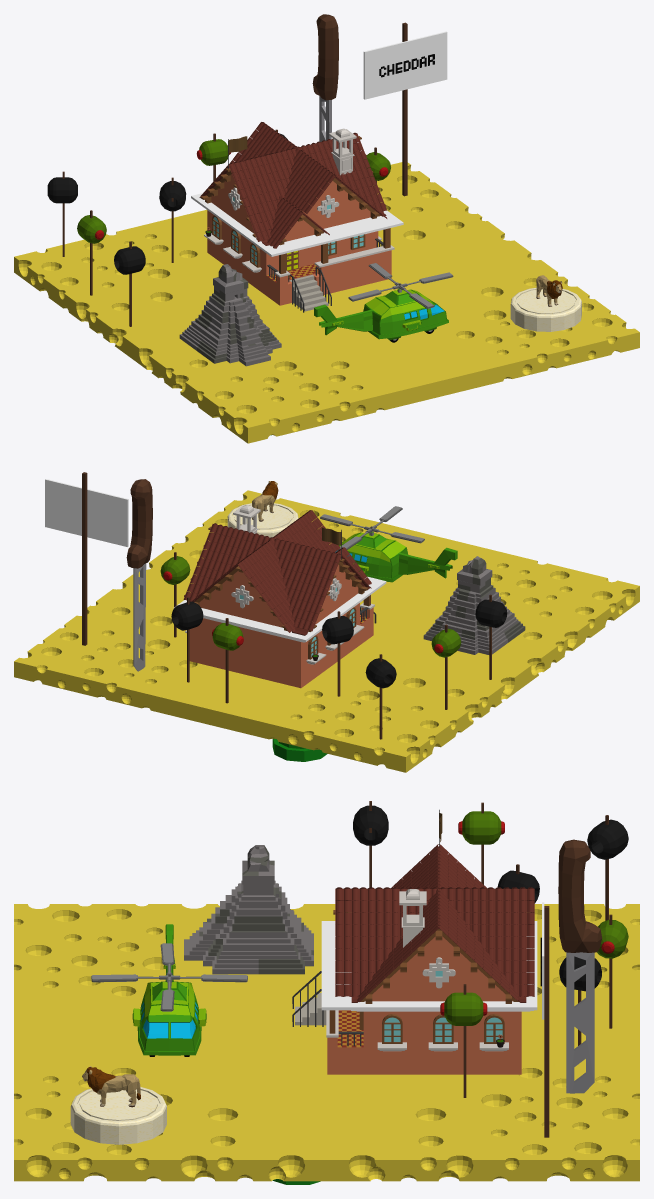
3 renders of one model, top to bottom at view 1: azimuth 30°, elevation 25°; view 2: azimuth 150°, elevation 25°; view 3: azimuth 270°, elevation 25°, orthographic. The views are drawn at different scales.
Parts seen in each view (by area): view 1: Cube.022, Cube.1141, OBJRANDOM_GRAN_JAGUAR, Cube.023, VEHICLES_HELICOPTER, Cylinder.016, Cube.024, Sphere.017, Sphere.016, Sphere.020, Sphere.018, Sphere.022; view 2: Cube.022, Cube.1141, Cube.023, OBJRANDOM_GRAN_JAGUAR, VEHICLES_HELICOPTER, Cube.024, Cylinder.016, Sphere.020, Sphere.016, Sphere.022, Sphere.017, Sphere.021 (+4 smaller); view 3: Cube.022, Cube.1141, OBJRANDOM_GRAN_JAGUAR, Cube.024, VEHICLES_HELICOPTER, Cylinder.016, Cube.023, Sphere.019, Sphere.016, Sphere.018, Sphere.017, ANIMAL_LEON (+3 smaller).
Part boxes in pixels (bbox=[...]): Cube.022: bbox=[14, 162, 639, 443]; Cube.1141: bbox=[191, 122, 403, 312]; OBJRANDOM_GRAN_JAGUAR: bbox=[179, 264, 281, 366]; Cube.023: bbox=[363, 22, 447, 196]; VEHICLES_HELICOPTER: bbox=[314, 263, 453, 342]; Cylinder.016: bbox=[510, 287, 581, 331]; Cube.024: bbox=[312, 14, 338, 141]; Sphere.017: bbox=[114, 241, 145, 326]; Sphere.016: bbox=[47, 171, 77, 256]; Sphere.020: bbox=[159, 177, 186, 262]; Sphere.018: bbox=[77, 210, 106, 295]; Sphere.022: bbox=[196, 133, 230, 180]; Cube.022: bbox=[14, 490, 639, 772]; Cube.1141: bbox=[173, 505, 386, 688]; Cube.023: bbox=[45, 472, 128, 645]; OBJRANDOM_GRAN_JAGUAR: bbox=[423, 556, 525, 654]; VEHICLES_HELICOPTER: bbox=[320, 506, 457, 582]; Cube.024: bbox=[126, 479, 152, 671]; Cylinder.016: bbox=[227, 503, 298, 537]; Sphere.020: bbox=[322, 611, 353, 696]; Sphere.016: bbox=[365, 654, 396, 739]; Sphere.022: bbox=[212, 618, 243, 703]; Sphere.017: bbox=[475, 594, 507, 679]; Sphere.021: bbox=[171, 597, 203, 682]; Cube.022: bbox=[14, 904, 639, 1181]; Cube.1141: bbox=[292, 809, 537, 1074]; OBJRANDOM_GRAN_JAGUAR: bbox=[184, 845, 313, 974]; Cube.024: bbox=[558, 839, 602, 1093]; VEHICLES_HELICOPTER: bbox=[91, 924, 247, 1056]; Cylinder.016: bbox=[70, 1087, 166, 1144]; Cube.023: bbox=[540, 902, 549, 1137]; Sphere.019: bbox=[440, 984, 487, 1097]; Sphere.016: bbox=[587, 815, 628, 920]; Sphere.018: bbox=[458, 802, 504, 886]; Sphere.017: bbox=[353, 801, 388, 887]; ANIMAL_LEON: bbox=[82, 1066, 140, 1107].
Bounding box in the file's own units: 3917 × 2590 × 4000.
Materials: 41 (3 with a texture image).
